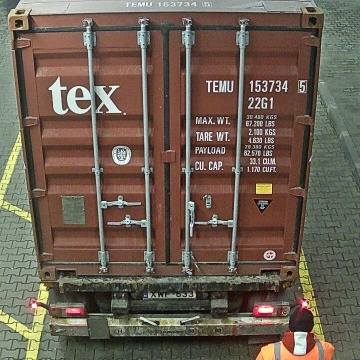serial_id: (203, 79, 309, 95)
